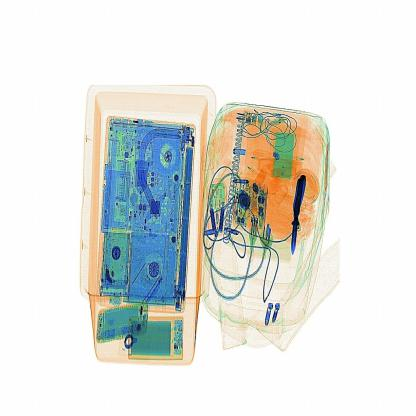gun: (287, 160, 307, 263)
